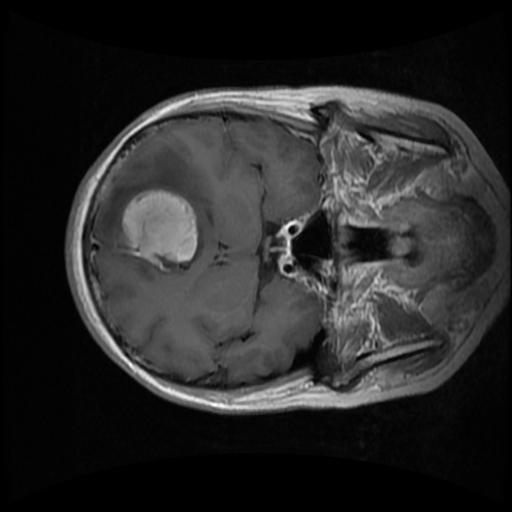meningioma: (120, 188, 197, 272)
